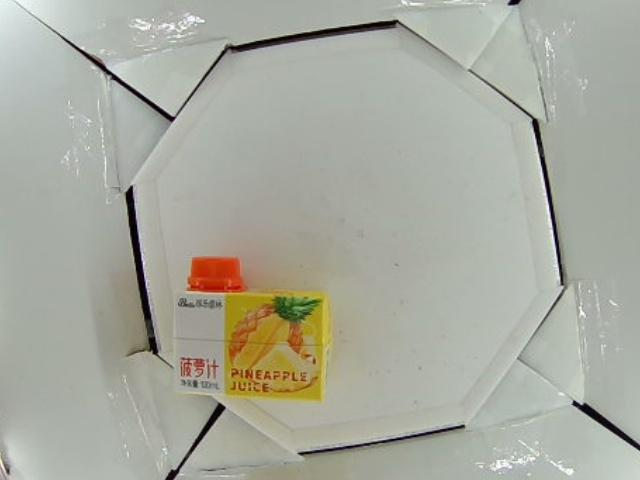Bottle: (173, 255, 329, 397)
